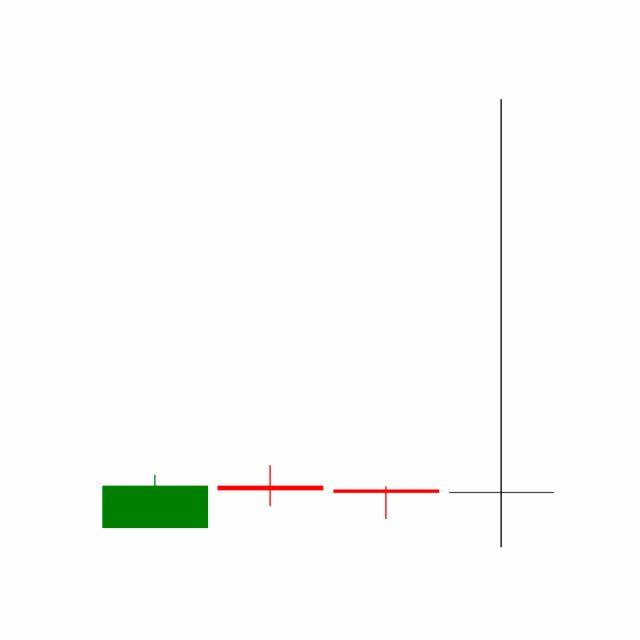Hammer: (329, 486, 445, 520)
